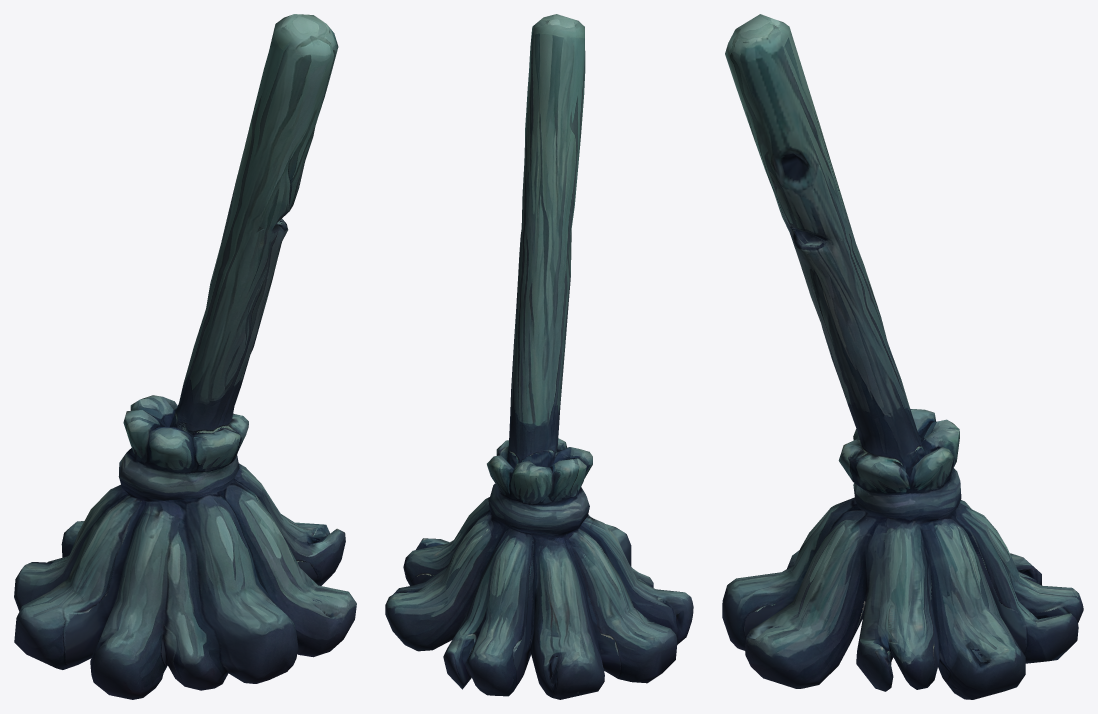
Rendered from tool_mop.fbx.
3 views of the same model, side by side, from view 1: azimuth 30°, elevation 25°; view 2: azimuth 150°, elevation 25°; view 3: azimuth 270°, elevation 25° (orthographic). The views are drawn at different scales.
Visible parts, largest first — view 1: texture_mapping; view 2: texture_mapping; view 3: texture_mapping.
Boxes of the visible parts, x1,y1,x2,y2 form: texture_mapping: (14,14,356,699); texture_mapping: (385,14,693,699); texture_mapping: (722,14,1083,699).
Bounding box in the file's own units: 0.4859 × 0.4931 × 1.
Materials: 1 (1 with a texture image).
